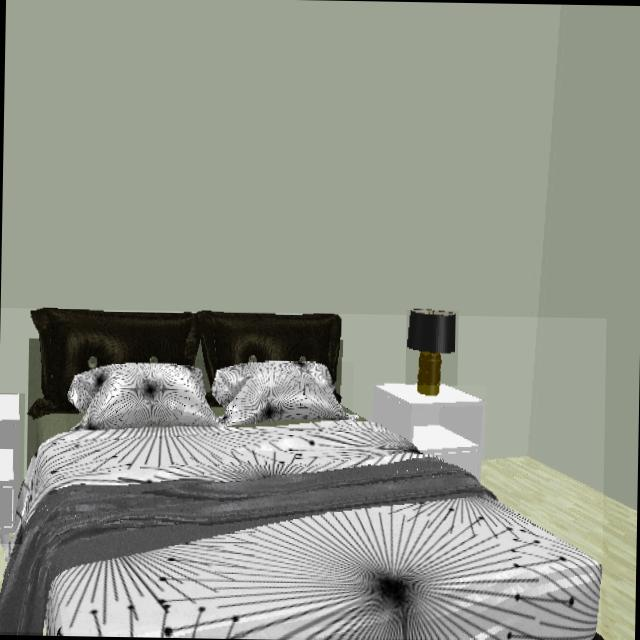bed: (0, 309, 602, 640)
lamp: (405, 310, 458, 403)
nighttable: (371, 384, 485, 476), (0, 394, 24, 544)
pillow: (67, 362, 352, 431)
